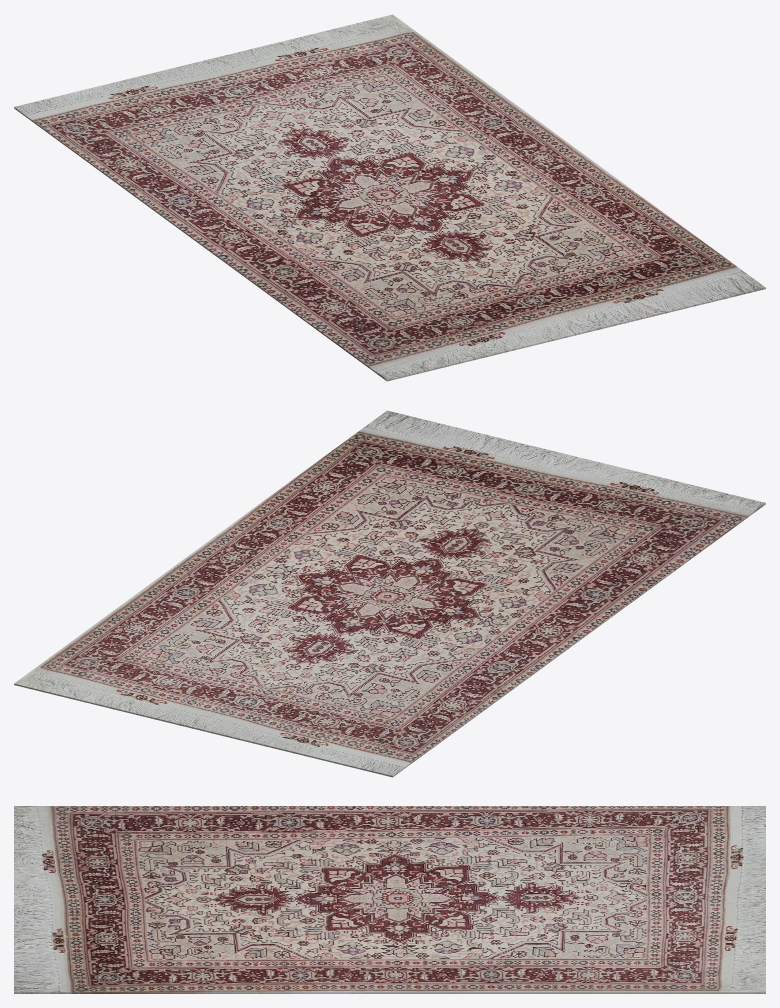
3 views of the same model, one above another, from view 1: azimuth 30°, elevation 25°; view 2: azimuth 150°, elevation 25°; view 3: azimuth 270°, elevation 25° (orthographic).
Bounding box in the file's own units: 1.4 × 0.00505 × 2.39.
Materials: 1 (1 with a texture image).
